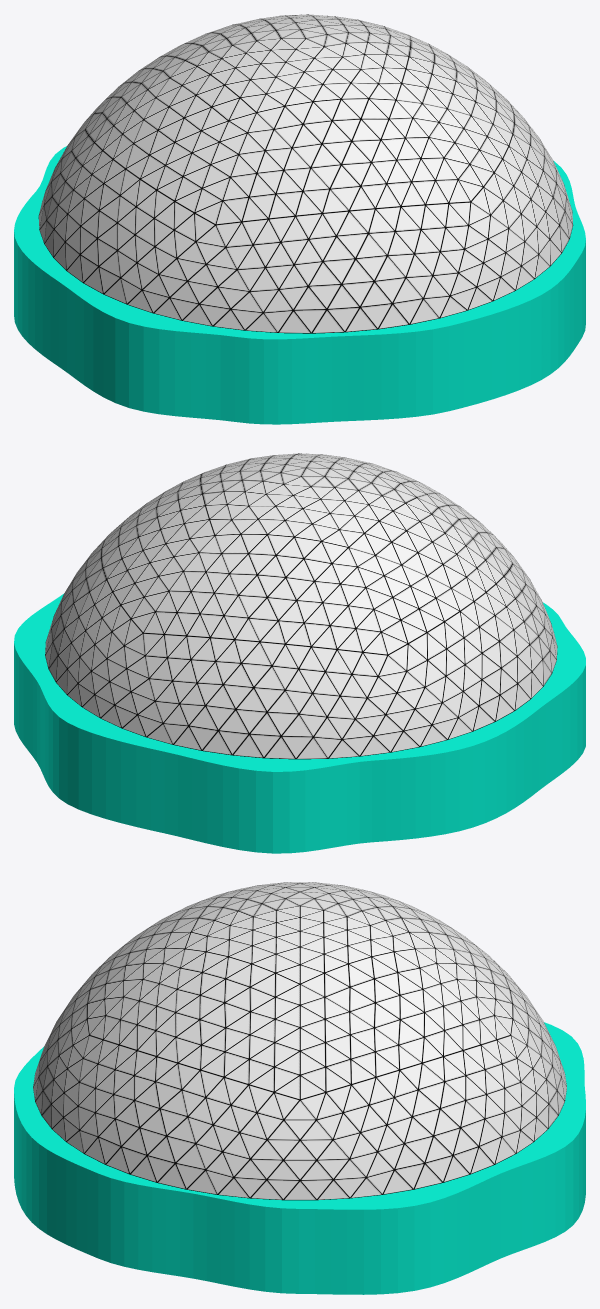
File: SM_dome_V6.FBX
3 views of the same model, one above another, from view 1: azimuth 30°, elevation 25°; view 2: azimuth 150°, elevation 25°; view 3: azimuth 270°, elevation 25° (orthographic). The views are drawn at different scales.
Visible parts, largest first — view 1: GeoSphere002, Wall_final001; view 2: GeoSphere002, Wall_final001; view 3: GeoSphere002, Wall_final001.
Part boxes in pixels (x1,y1,x2,y2): GeoSphere002: (38,14,573,333); Wall_final001: (14,146,585,424); GeoSphere002: (45,453,557,759); Wall_final001: (14,594,585,853); GeoSphere002: (33,882,566,1200); Wall_final001: (14,1022,585,1294).
Size of the model in its own units: 3132 by 1611 by 3125.
4 materials, 1 textured.
